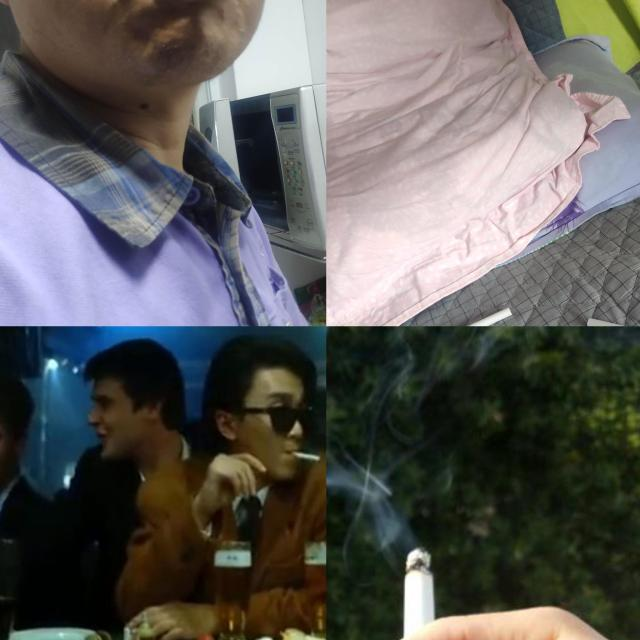smoking: (400, 546, 438, 640), (422, 307, 514, 326), (290, 450, 322, 462)
